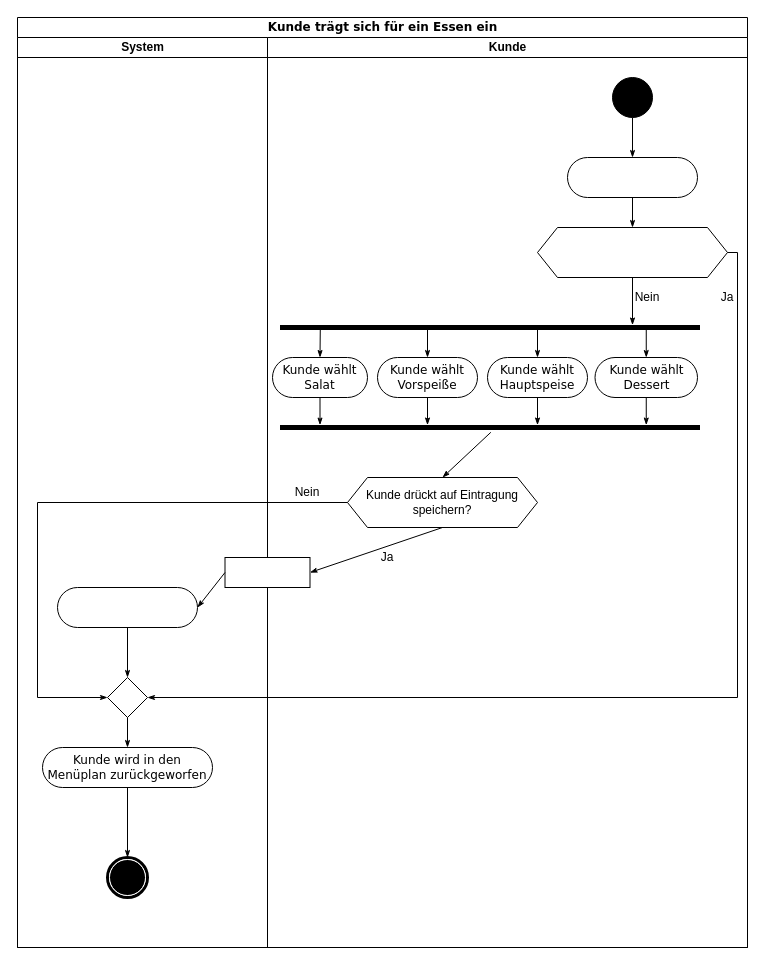
Some shapes in this 765 by 965 pixel diagram are drawn without their labels. Each missing label, with the centre of its shape:
Eintragung: the point at 267,572
Eintragung wird gespeichert: the point at 127,607
Kunde wählt Tag für die Eintragung: the point at 632,177
Schon eingetragen, keine Gerichte verfügbar oder zu spät für Eintragung?: the point at 632,252
